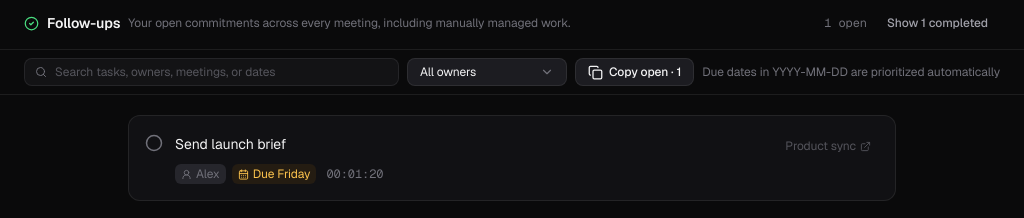
Scenario: MeetingFollowUps › copies the currently visible open work as a checklist
Click the button "Copy open · 1". click: (635, 72)
box: [575,58,694,86]
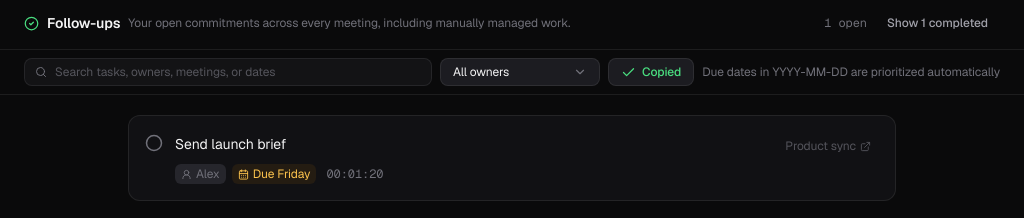
Expected: the button "Copied" is shown, [608,58,694,86]
